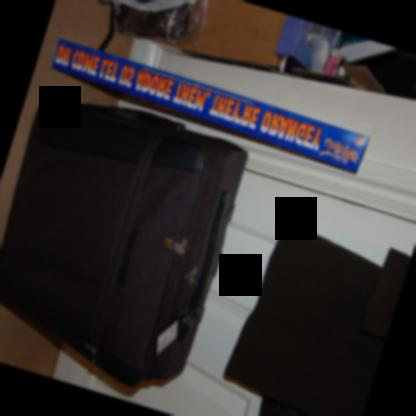suitcase: (0, 95, 247, 395)
